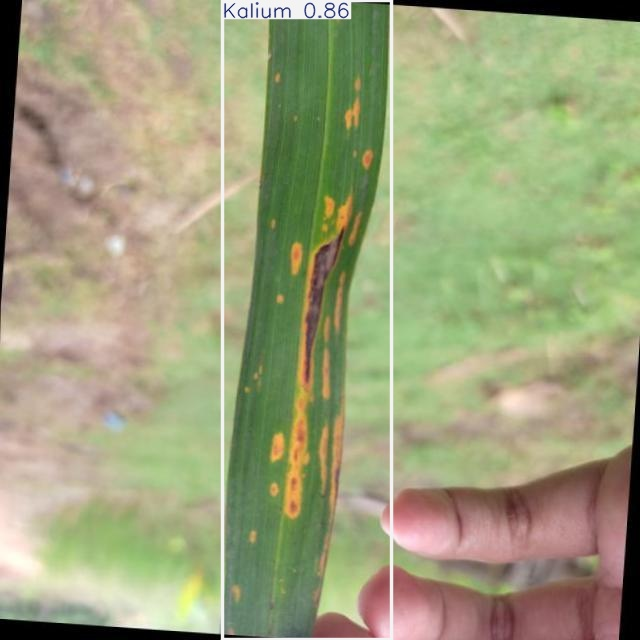Kalium: (223, 0, 392, 640)
